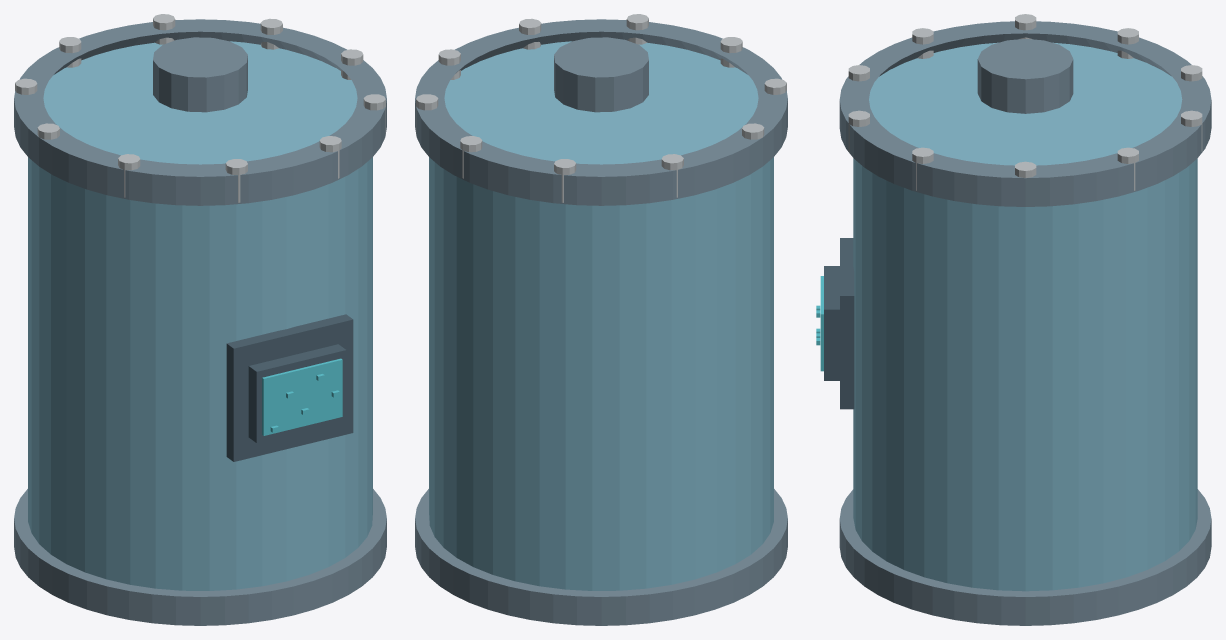
The model's file is 13_L76_ElectrolyteDegassingModule.glb.
3 views of the same model, side by side, from view 1: azimuth 30°, elevation 25°; view 2: azimuth 150°, elevation 25°; view 3: azimuth 270°, elevation 25° (orthographic).
Parts seen in each view (by area): view 1: ElectrolyteDegassingModule_Node_0000, ElectrolyteDegassingModule_Node_0003, ElectrolyteDegassingModule_Node_0002, ElectrolyteDegassingModule_Node_0015, ElectrolyteDegassingModule_Node_0014, ElectrolyteDegassingModule_Node_0017, ElectrolyteDegassingModule_Node_0016; view 2: ElectrolyteDegassingModule_Node_0000, ElectrolyteDegassingModule_Node_0003, ElectrolyteDegassingModule_Node_0002, ElectrolyteDegassingModule_Node_0014; view 3: ElectrolyteDegassingModule_Node_0000, ElectrolyteDegassingModule_Node_0003, ElectrolyteDegassingModule_Node_0002, ElectrolyteDegassingModule_Node_0014, ElectrolyteDegassingModule_Node_0015, ElectrolyteDegassingModule_Node_0016.
Boxes of the visible parts, x1,y1,x2,y2 form: ElectrolyteDegassingModule_Node_0000: [28, 41, 372, 590]; ElectrolyteDegassingModule_Node_0003: [14, 19, 386, 205]; ElectrolyteDegassingModule_Node_0002: [14, 489, 386, 625]; ElectrolyteDegassingModule_Node_0015: [226, 314, 353, 461]; ElectrolyteDegassingModule_Node_0014: [153, 37, 247, 112]; ElectrolyteDegassingModule_Node_0017: [262, 358, 342, 435]; ElectrolyteDegassingModule_Node_0016: [248, 344, 346, 442]; ElectrolyteDegassingModule_Node_0000: [429, 41, 773, 590]; ElectrolyteDegassingModule_Node_0003: [415, 19, 787, 205]; ElectrolyteDegassingModule_Node_0002: [415, 489, 787, 625]; ElectrolyteDegassingModule_Node_0014: [554, 37, 648, 112]; ElectrolyteDegassingModule_Node_0000: [853, 42, 1197, 591]; ElectrolyteDegassingModule_Node_0003: [839, 21, 1211, 206]; ElectrolyteDegassingModule_Node_0002: [839, 489, 1211, 625]; ElectrolyteDegassingModule_Node_0014: [977, 39, 1073, 113]; ElectrolyteDegassingModule_Node_0015: [840, 238, 854, 409]; ElectrolyteDegassingModule_Node_0016: [824, 266, 839, 380].
Size of the model in its own units: 1.17 by 1.69 by 1.24.
